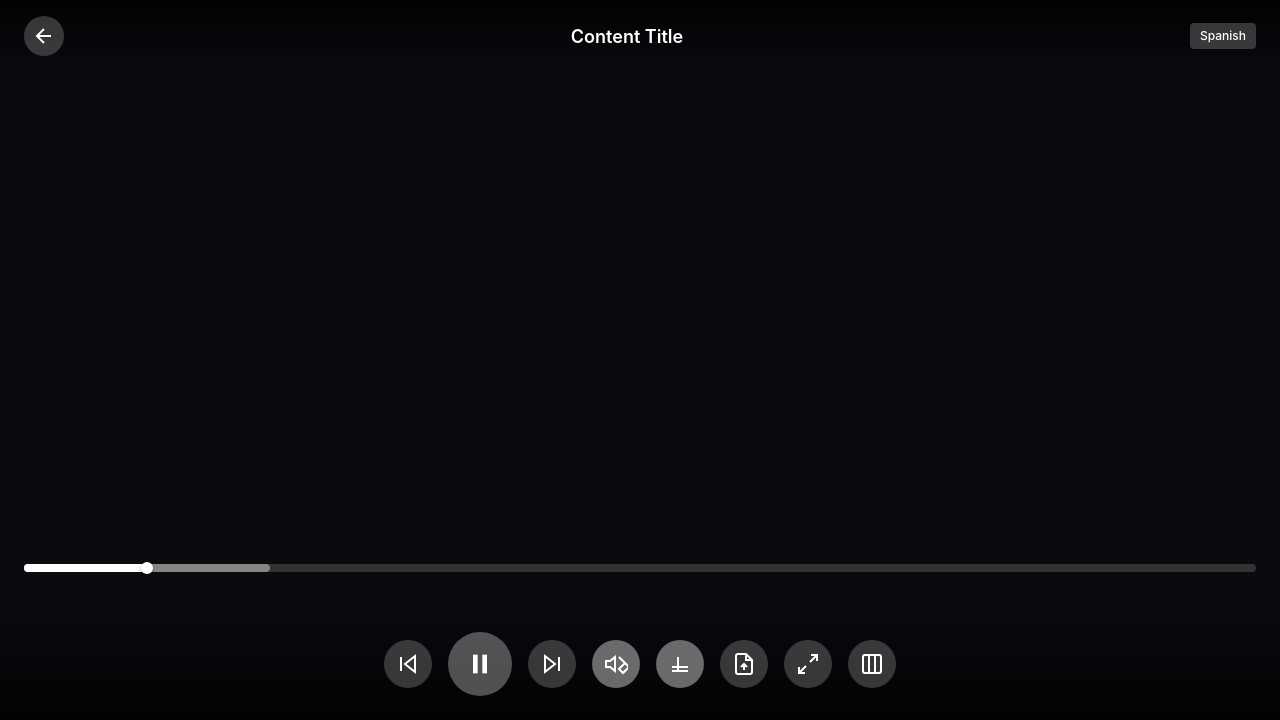
Test: OSD menus stay in HWND inset › keeps the subtitle track panel inside osd-chrome-bottom without position:fixed
What coordinates should you click on to do the following:
click the button with test id "osd-subtitle-button"
I would click on:
 (680, 664)
Its box is [656,640,704,688].
(page scrolled)
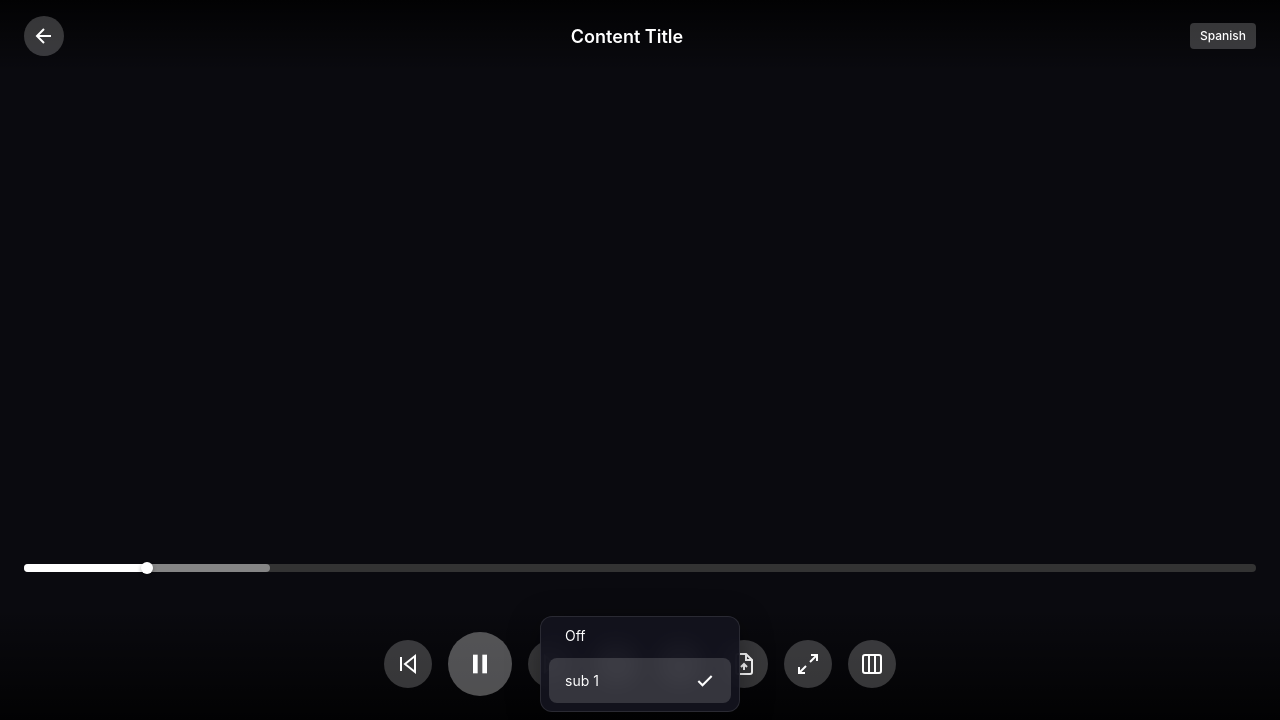
Now the text "sub 1" is shown, box [565,670,599,691]
